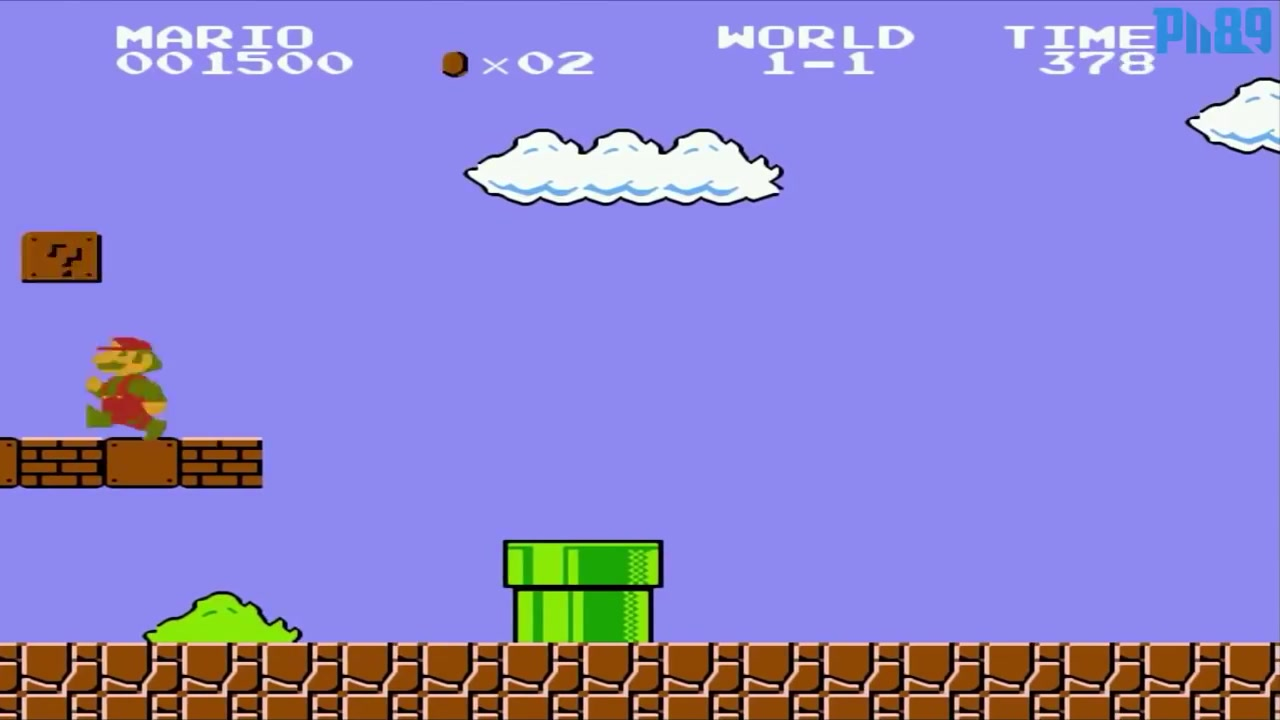mario: (71, 330, 176, 437)
